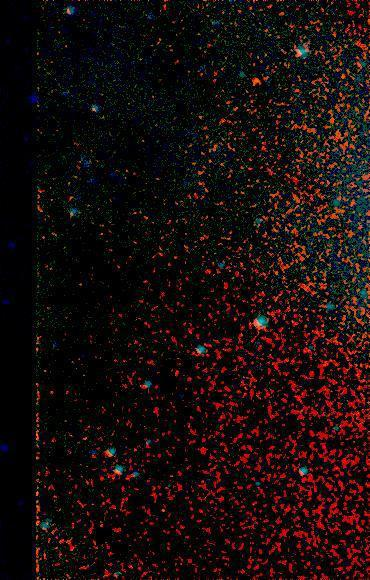star: (241, 68, 271, 98)
